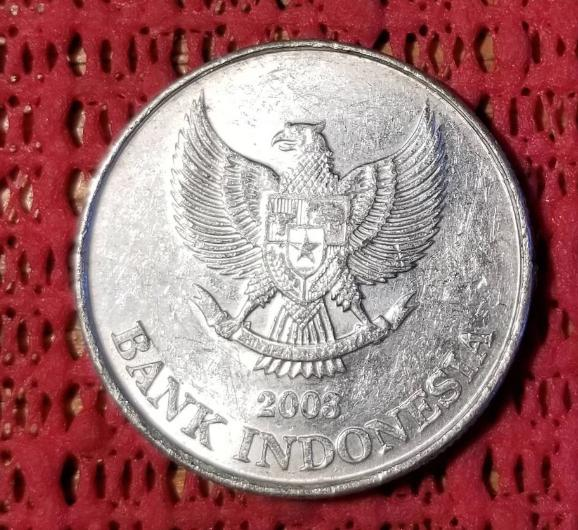coin_200_e2003: (73, 38, 535, 501)
